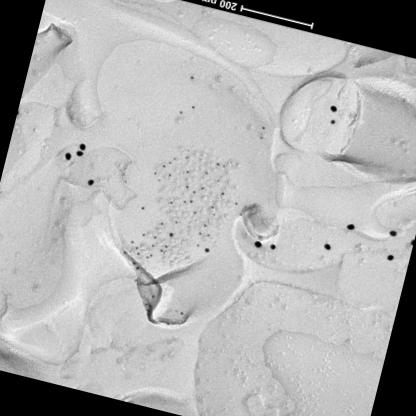6 nm Particle: (183, 184, 191, 191), (214, 161, 222, 168), (181, 199, 188, 206), (162, 244, 169, 251), (159, 221, 166, 228), (196, 230, 203, 237), (201, 222, 208, 229), (208, 204, 216, 210), (166, 172, 172, 180), (233, 200, 240, 206), (191, 190, 198, 196), (215, 178, 222, 184), (185, 170, 191, 177), (206, 232, 212, 239), (192, 210, 198, 216), (210, 212, 216, 218), (188, 199, 194, 205), (200, 186, 206, 192), (158, 248, 164, 254), (141, 233, 147, 239), (195, 242, 201, 248), (173, 219, 179, 225), (203, 171, 210, 176), (221, 164, 226, 171), (168, 200, 173, 206), (156, 178, 161, 184), (221, 192, 226, 198), (172, 156, 178, 161), (150, 242, 155, 248), (152, 235, 158, 240), (152, 171, 157, 176), (184, 156, 190, 160), (186, 148, 190, 154), (162, 164, 166, 169), (168, 162, 172, 166)
